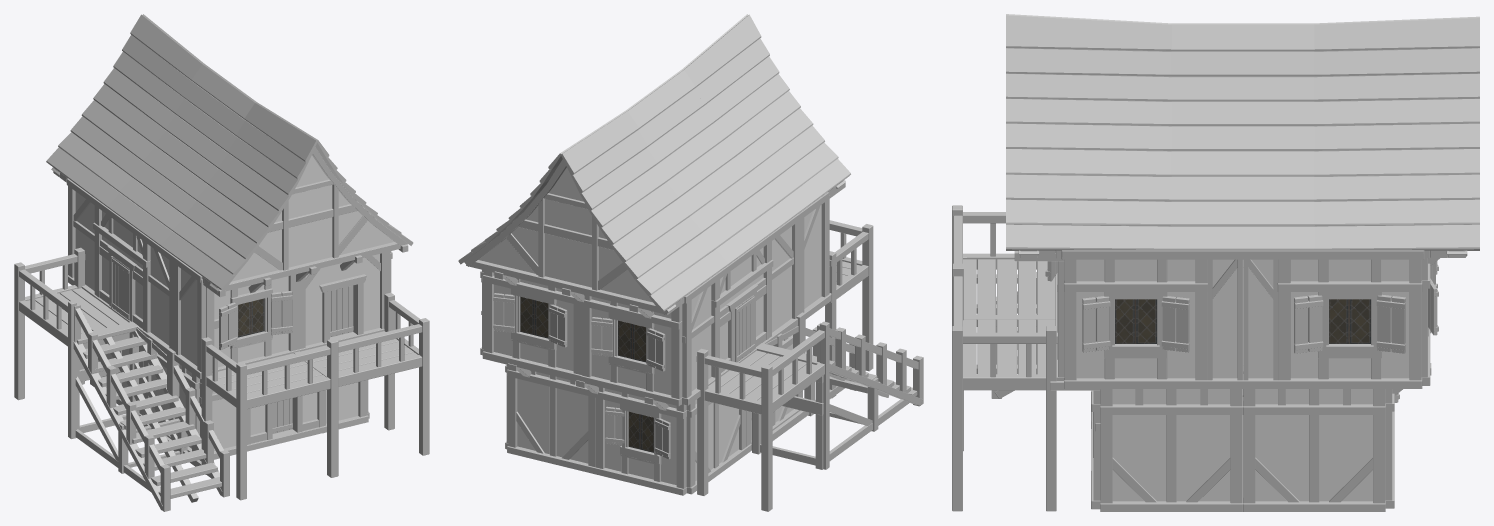
File: House_1A5.fbx
3 renders of one model, left to right at view 1: azimuth 30°, elevation 25°; view 2: azimuth 150°, elevation 25°; view 3: azimuth 270°, elevation 25°, orthographic. The views are drawn at different scales.
Parts seen in each view (by area): view 1: House_1A5, Cube.2366, Cube.2376, Plane.386, Cube.2380; view 2: House_1A5, Cube.2376, Plane.311, Plane.310, Plane.353; view 3: House_1A5, Plane.382, Plane.383.
Boxes of the visible parts, <box> form: House_1A5: <box>14,14,429,511</box>; Cube.2366: <box>330,285,353,337</box>; Cube.2376: <box>111,256,129,319</box>; Plane.386: <box>238,298,264,337</box>; Cube.2380: <box>272,398,292,433</box>; House_1A5: <box>458,14,923,511</box>; Cube.2376: <box>735,295,754,362</box>; Plane.311: <box>520,296,548,338</box>; Plane.310: <box>618,320,645,362</box>; Plane.353: <box>628,411,653,452</box>; House_1A5: <box>952,14,1479,511</box>; Plane.382: <box>1115,299,1156,343</box>; Plane.383: <box>1329,299,1370,343</box>.
Size of the model in its own units: 1155 by 1378 by 1480.
